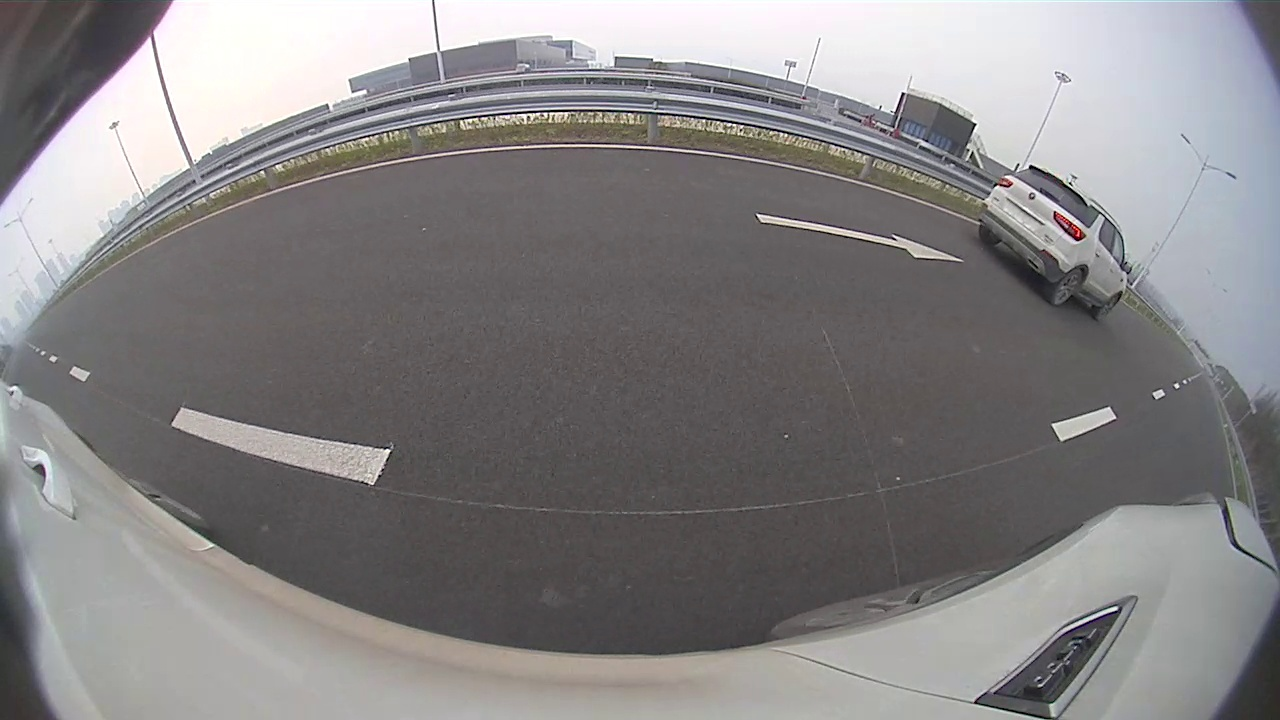car: (976, 164, 1132, 321)
rear: (1048, 267, 1086, 307)
